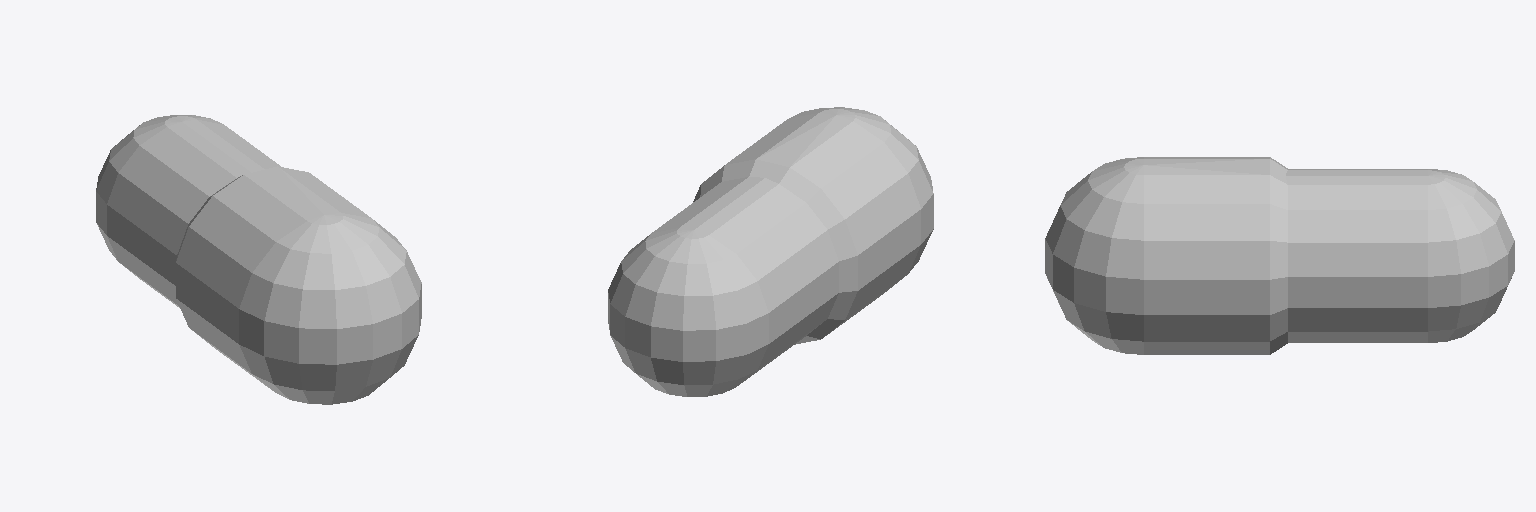
The model's file is PillSubdivided.obj.
3 renders of one model, left to right at view 1: azimuth 30°, elevation 25°; view 2: azimuth 150°, elevation 25°; view 3: azimuth 270°, elevation 25°, orthographic.
Parts seen in each view (by area): view 1: Sphere_Sphere.001; view 2: Sphere_Sphere.001; view 3: Sphere_Sphere.001.
Part boxes in pixels (left/top/right/bottom): Sphere_Sphere.001: left=96, top=115, right=421, bottom=404; Sphere_Sphere.001: left=608, top=107, right=933, bottom=396; Sphere_Sphere.001: left=1045, top=157, right=1514, bottom=354.
Bounding box in the file's own units: 1.71 × 1.74 × 4.07.